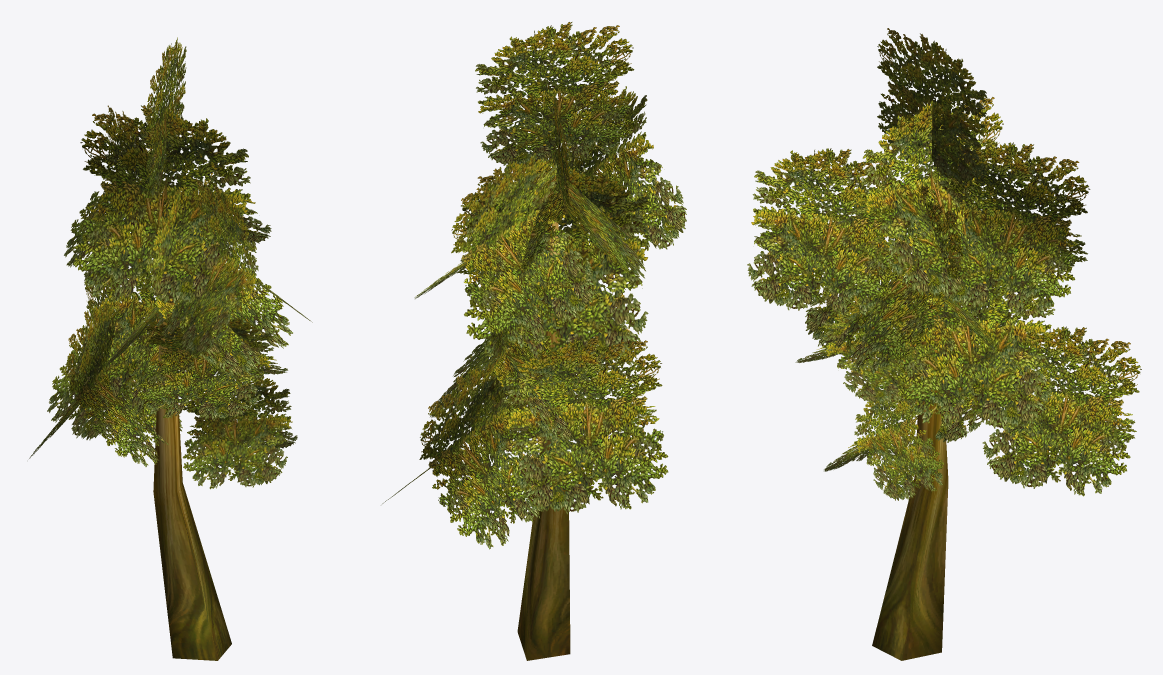
File: elwynntreemid01.obj
3 renders of one model, left to right at view 1: azimuth 30°, elevation 25°; view 2: azimuth 150°, elevation 25°; view 3: azimuth 270°, elevation 25°, orthographic. The views are drawn at different scales.
Visible parts, largest first — view 1: Geoset1, Geoset0; view 2: Geoset1, Geoset0; view 3: Geoset1, Geoset0.
Part boxes in pixels (bbox=[...]): Geoset1: bbox=[29, 37, 312, 489]; Geoset0: bbox=[153, 177, 231, 660]; Geoset1: bbox=[382, 22, 686, 549]; Geoset0: bbox=[517, 163, 570, 660]; Geoset1: bbox=[747, 28, 1141, 500]; Geoset0: bbox=[872, 165, 948, 660].
Size of the model in its own units: 5.4 by 12.23 by 7.58.
2 materials, 2 textured.
